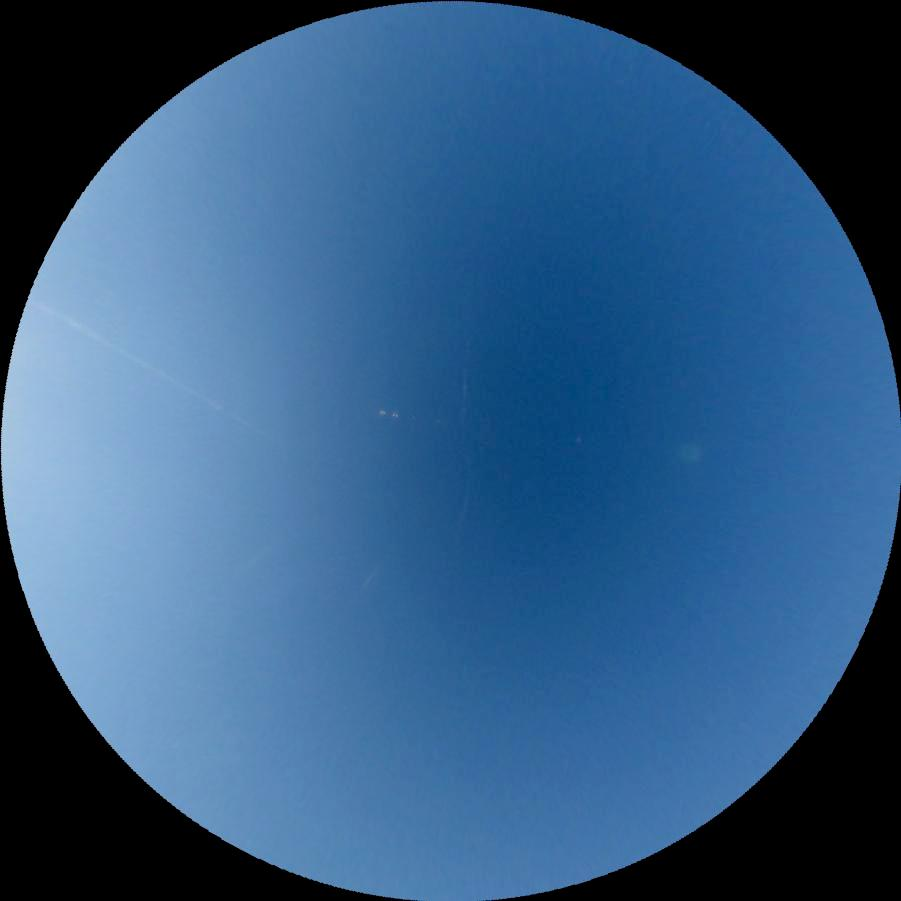parasite: (24, 292, 278, 445)
